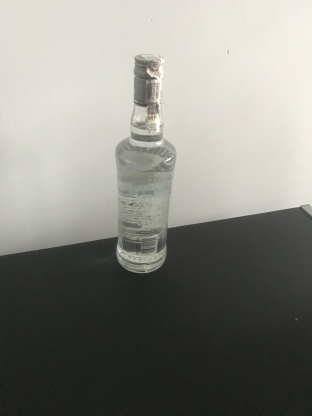nakretka: (131, 50, 165, 107)
